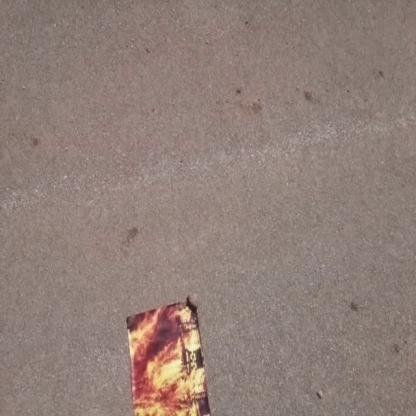fire-poster: (124, 295, 213, 415)
